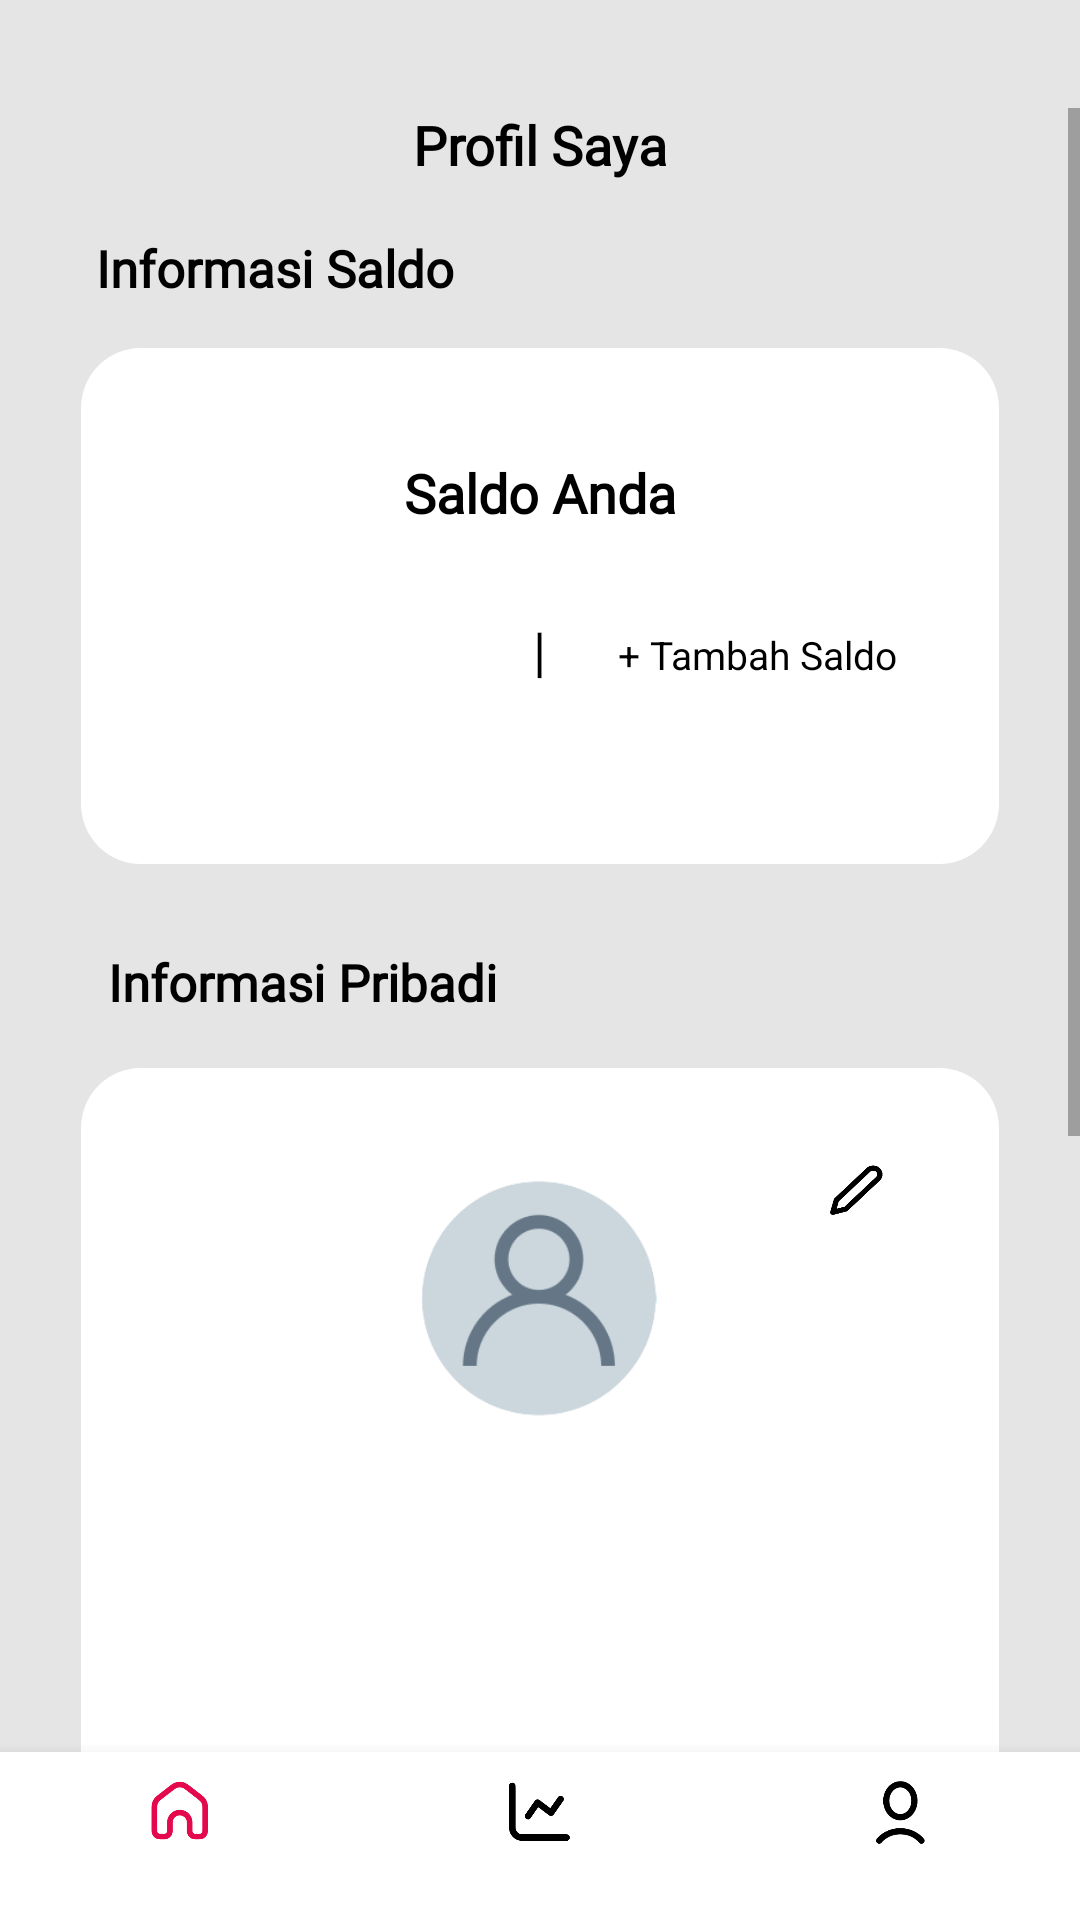

Icons on this 1080x1920 Android screen, each with its box as (x1, y1, x2, y2):
user: (422, 1181, 657, 1415)
